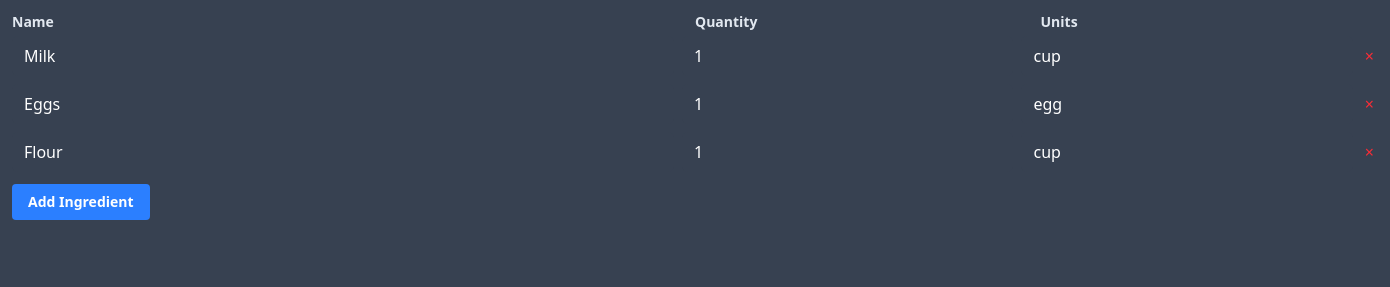
IngredientsInput Component › adds new input row when "Add Ingredient" button is clicked
The width and height of the screenshot is (1390, 287).
Click the button "Add Ingredient" at (81, 202), box [12,184,150,220]
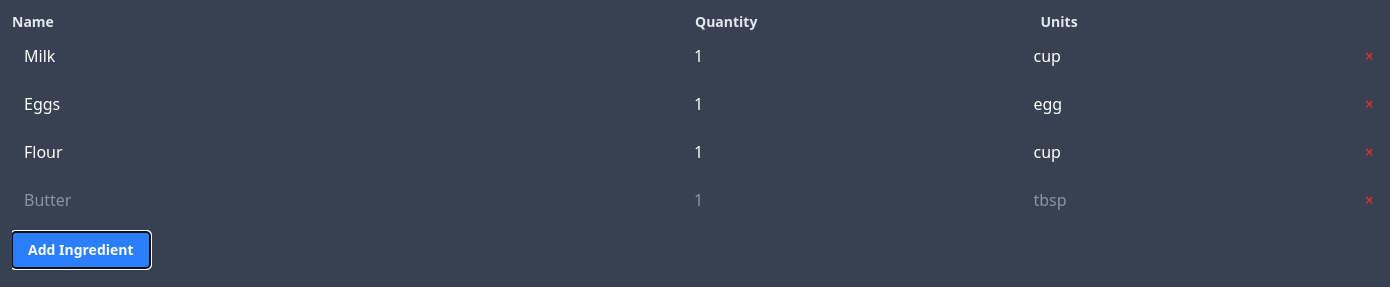
Result: the number of fields named "ingredient name" is 4 at [12,36,674,76]; [12,84,674,124]; [12,132,674,172]; [12,180,674,220]
Result: the number of number fields named "ingredient quantity" is 4 at [682,36,1013,76]; [682,84,1013,124]; [682,132,1013,172]; [682,180,1013,220]
Result: the number of fields named "ingredient units" is 4 at [1022,36,1353,76]; [1022,84,1353,124]; [1022,132,1353,172]; [1022,180,1353,220]
